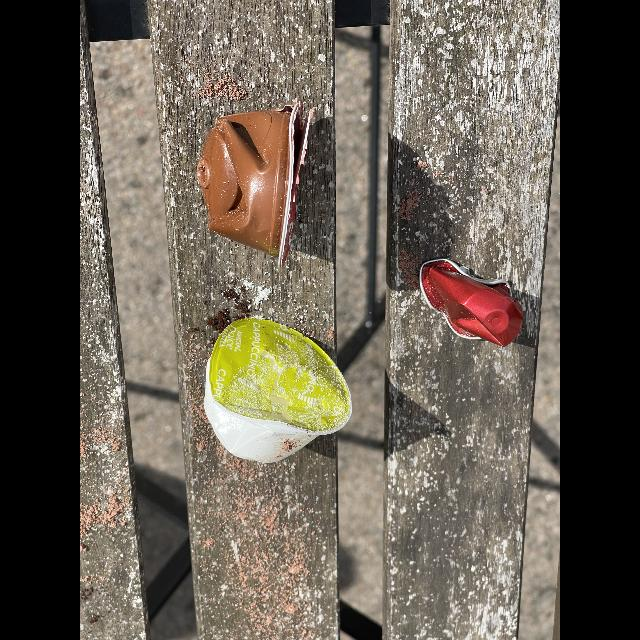damaged_capsule: (200, 314, 358, 470), (192, 100, 328, 266), (406, 250, 536, 362)
